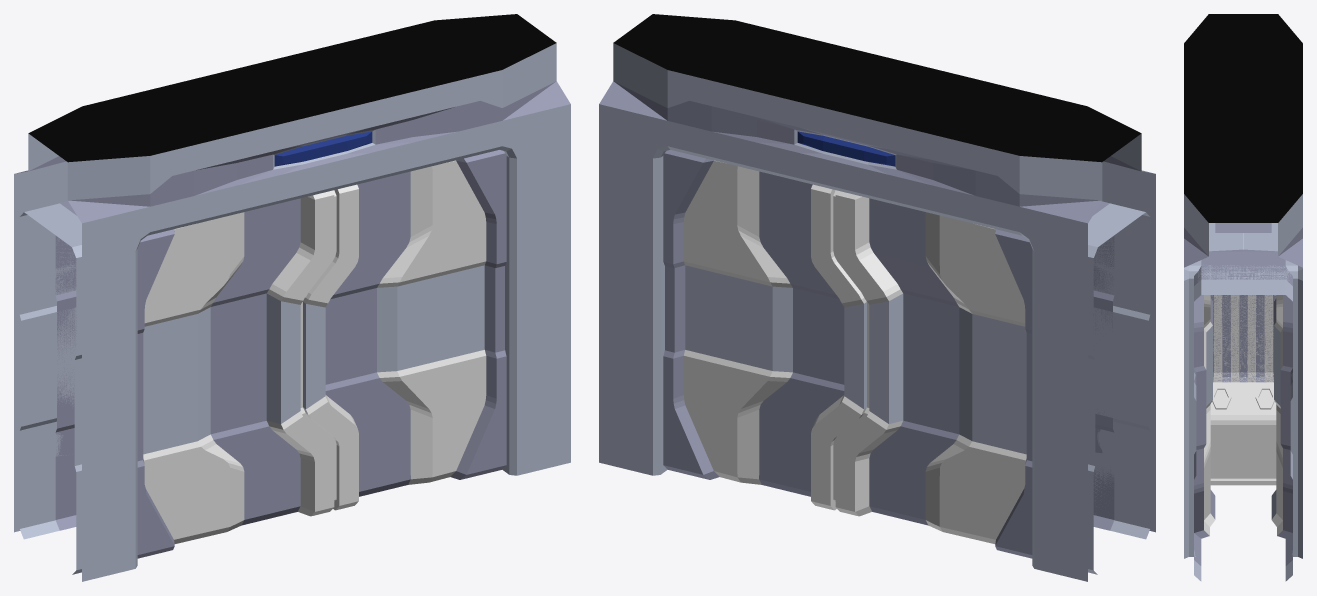
File: ship_door.fbx
The picture shows the model from 3 angles, left to right: view 1: azimuth 30°, elevation 25°; view 2: azimuth 150°, elevation 25°; view 3: azimuth 270°, elevation 25°; orthographic projection. The views are drawn at different scales.
Visible parts, largest first — view 1: Frame, Door.L, Door.R; view 2: Frame, Door.L, Door.R; view 3: Frame, Door.R, Door.L.
Boxes of the visible parts, x1,y1,x2,y2 form: Frame: [14, 14, 570, 581]; Door.L: [55, 190, 334, 558]; Door.R: [300, 150, 506, 510]; Frame: [599, 14, 1155, 581]; Door.L: [835, 190, 1114, 558]; Door.R: [663, 150, 869, 510]; Frame: [1184, 14, 1302, 581]; Door.R: [1194, 223, 1292, 565]; Door.L: [1210, 295, 1276, 478].
Bounding box in the file's own units: 500 × 400 × 120.
